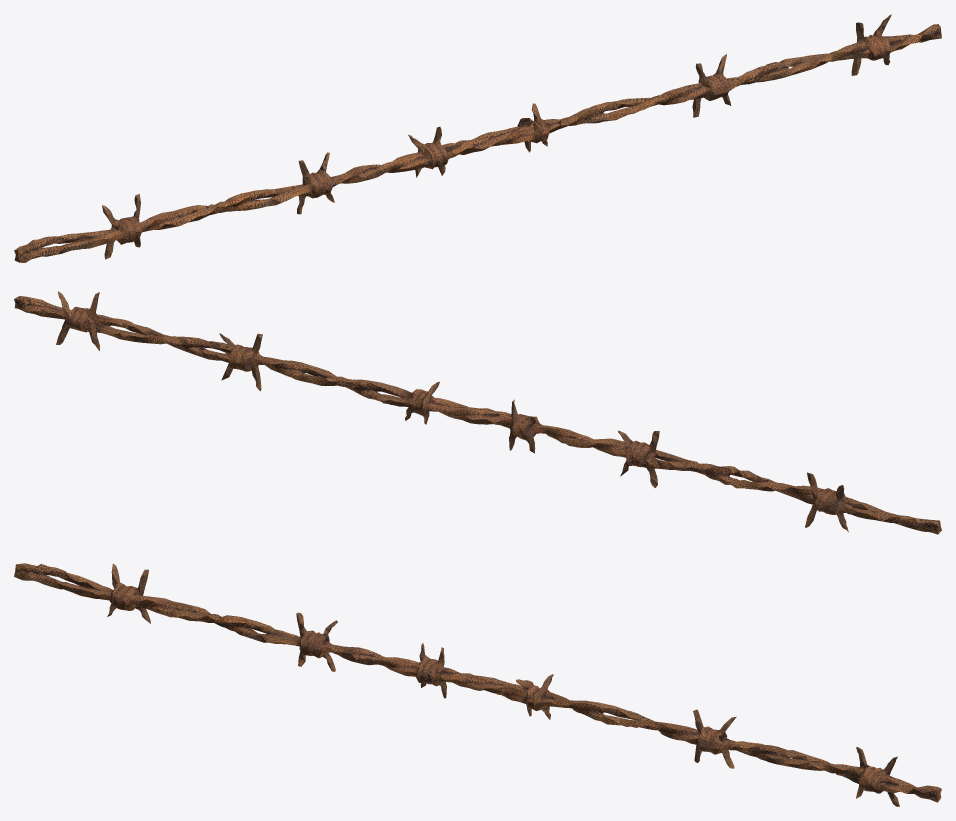
File: barbed_wire.glb
3 views of the same model, one above another, from view 1: azimuth 30°, elevation 25°; view 2: azimuth 150°, elevation 25°; view 3: azimuth 330°, elevation 25° (orthographic).
Visible parts, largest first — view 1: mesh_node; view 2: mesh_node; view 3: mesh_node.
Boxes of the visible parts, x1,y1,x2,y2 form: mesh_node: (14,14,941,262); mesh_node: (14,291,941,534); mesh_node: (14,563,941,806).
Size of the model in its own units: 1.89 by 0.1124 by 0.0669.
1 material, 1 textured.
